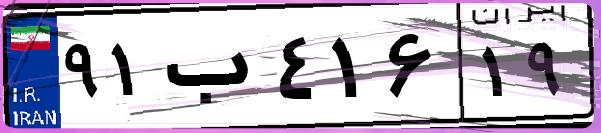1: (330, 28, 385, 110), (475, 38, 525, 113), (110, 28, 158, 98)
4: (270, 28, 330, 110)
6: (385, 28, 445, 110)
9: (57, 26, 110, 100), (525, 38, 570, 115)
ب: (158, 20, 270, 120)
